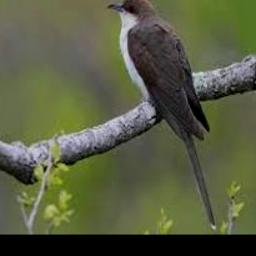Cuckoo: (109, 0, 217, 229)
